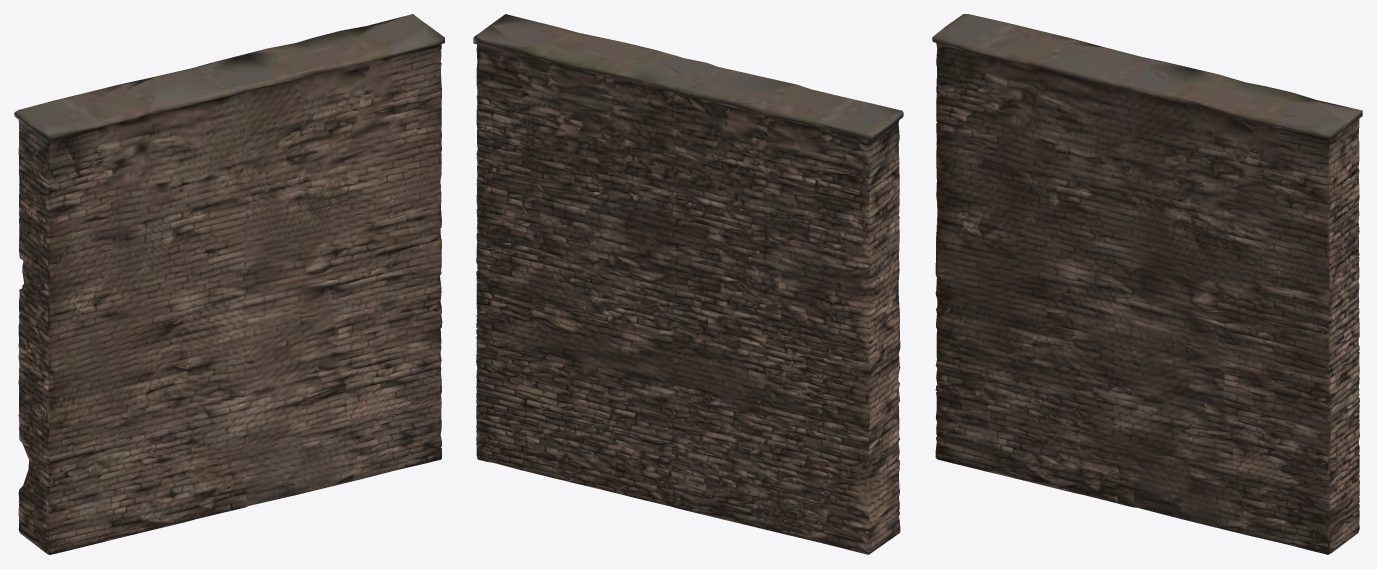
File: brick_wall_a.glb
3 views of the same model, side by side, from view 1: azimuth 30°, elevation 25°; view 2: azimuth 150°, elevation 25°; view 3: azimuth 330°, elevation 25° (orthographic).
Visible parts, largest first — view 1: mesh_node; view 2: mesh_node; view 3: mesh_node.
Part boxes in pixels (x1,y1,x2,y2): mesh_node: [14, 14, 444, 554]; mesh_node: [473, 14, 903, 554]; mesh_node: [932, 14, 1362, 554].
Size of the model in its own units: 14.83 by 15 by 2.22.
1 material, 1 textured.
